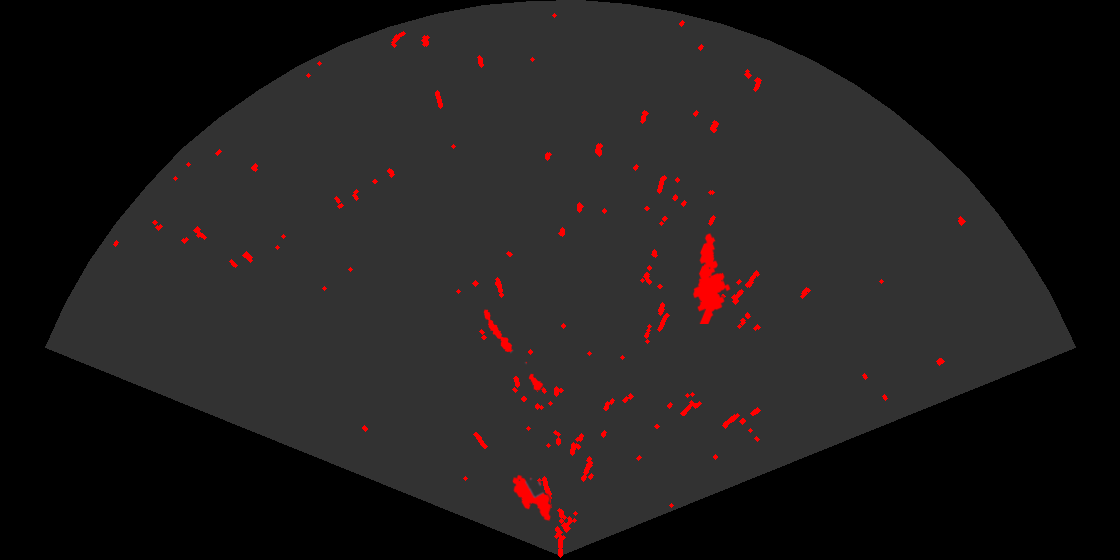AUV: (511, 473, 553, 523)
chain: (482, 308, 545, 392)
frogman: (691, 232, 732, 324)
